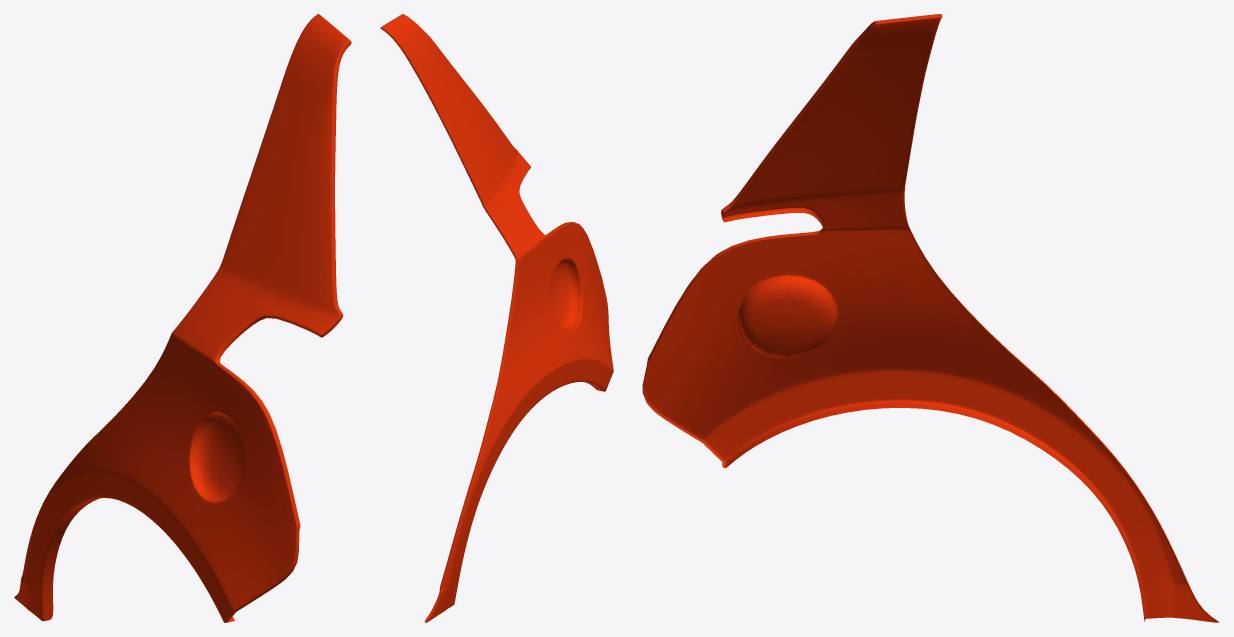
File: quarter_panel.fbx
3 views of the same model, side by side, from view 1: azimuth 30°, elevation 25°; view 2: azimuth 150°, elevation 25°; view 3: azimuth 270°, elevation 25° (orthographic). The views are drawn at different scales.
Parts seen in each view (by area): view 1: swift.041; view 2: swift.041; view 3: swift.041.
Boxes of the visible parts, left/top/right/bottom form: swift.041: left=14, top=14, right=351, bottom=622; swift.041: left=380, top=14, right=613, bottom=622; swift.041: left=642, top=14, right=1218, bottom=622.
Bounding box in the file's own units: 46.83 × 142 × 105.
